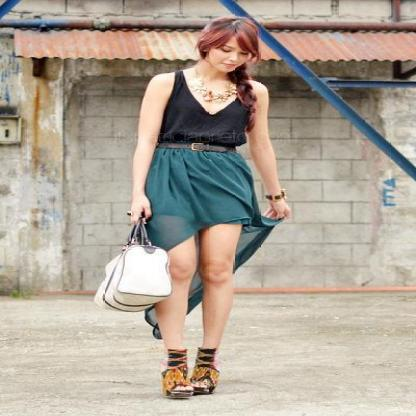bag: (94, 211, 170, 324)
shirt: (156, 75, 255, 150)
shoe: (160, 348, 218, 400)
skirt: (144, 142, 286, 314)
